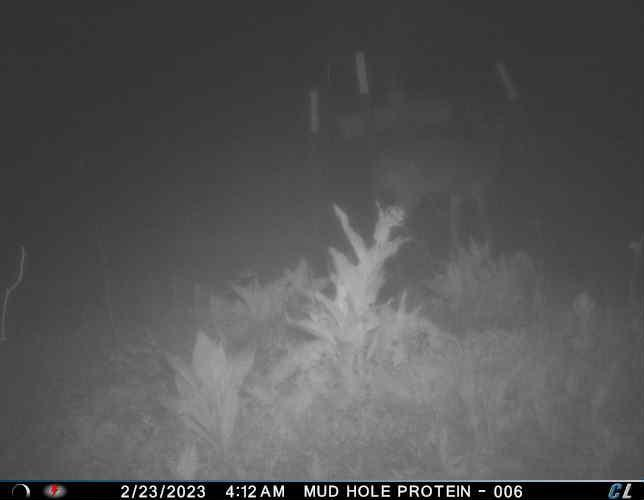Deer: (372, 129, 514, 245)
